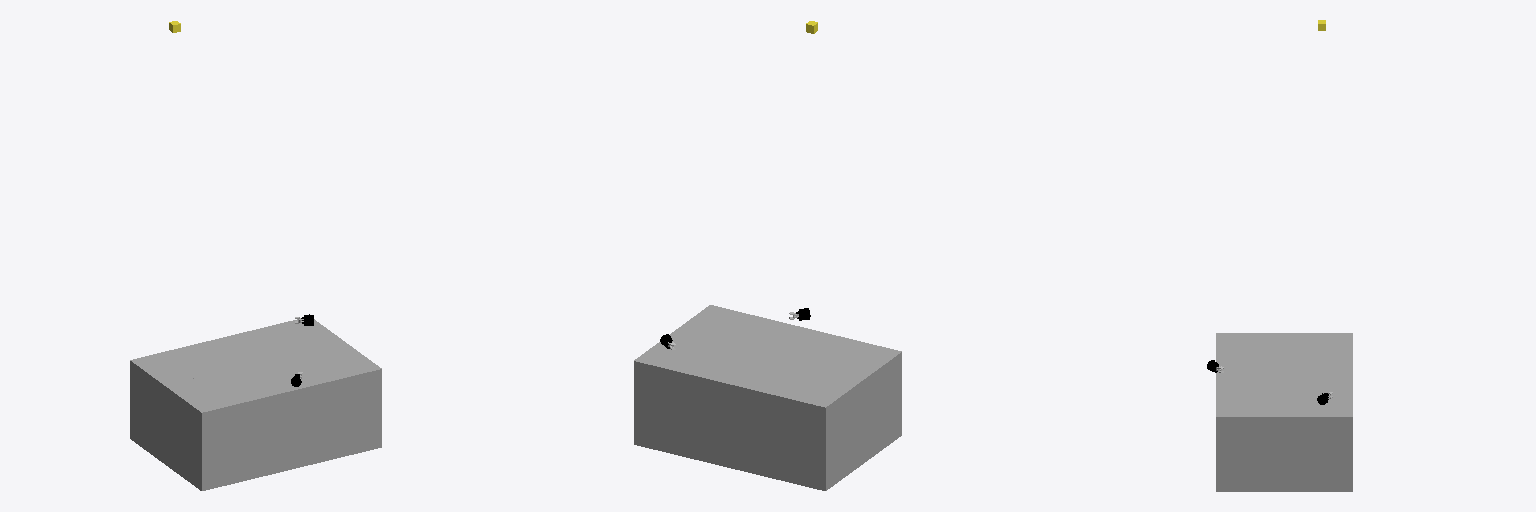
--- Facts derived from the render (not from the file) ---
Views: 3 orthographic renders of the robot side by side, from view 1: azimuth 30°, elevation 25°; view 2: azimuth 150°, elevation 25°; view 3: azimuth 270°, elevation 25°.
Robot: ur3 — 36 links, 35 joints (16 revolute, 19 fixed); root link world; default pose: every joint at zero.
Links seen in each view (by area): view 1: suelo_sistema, zona_recogida; view 2: suelo_sistema, zona_recogida; view 3: suelo_sistema, zona_recogida.
Boxes of the visible links, box(x1,y1,x2,y2) form: suelo_sistema: box(130, 319, 381, 490); zona_recogida: box(130, 342, 238, 385); suelo_sistema: box(634, 305, 901, 490); zona_recogida: box(747, 361, 861, 407); suelo_sistema: box(1216, 333, 1352, 491); zona_recogida: box(1287, 333, 1352, 367).
Bounding box of the posed robot: 1.2 × 0.8887 × 2.67 m (x, y, z).
12 mesh visuals loaded from 12 distinct referenced files (5 Collada DAE); not drawn: 14 (reference not matched to a file when rendering).

The robot description file, URDF, robot "ur3":
<?xml version="1.0" ?>
<!-- =================================================================================== -->
<!-- |    This document was autogenerated by xacro from ur3_2_robots.urdf.xacro        | -->
<!-- |    EDITING THIS FILE BY HAND IS NOT RECOMMENDED                                 | -->
<!-- =================================================================================== -->
<robot name="ur3">
  <gazebo>
    <plugin filename="libgazebo_ros_control.so" name="ros_control">
      <!--robotNamespace>/</robotNamespace-->
      <!--robotSimType>gazebo_ros_control/DefaultRobotHWSim</robotSimType-->
    </plugin>
    <!--
    <plugin name="gazebo_ros_power_monitor_controller" filename="libgazebo_ros_power_monitor.so">
      <alwaysOn>true</alwaysOn>
      <updateRate>1.0</updateRate>
      <timeout>5</timeout>
      <powerStateTopic>power_state</powerStateTopic>
      <powerStateRate>10.0</powerStateRate>
      <fullChargeCapacity>87.78</fullChargeCapacity>     
      <dischargeRate>-474</dischargeRate>
      <chargeRate>525</chargeRate>
      <dischargeVoltage>15.52</dischargeVoltage>
      <chargeVoltage>16.41</chargeVoltage>
    </plugin>
-->
  </gazebo>
  <!--
  Author: Felix Messmer
-->
  <!--
  Author: Ignacio Fidalgo
-->
  <!-- camera -->
  <gazebo reference="camera_link">
    <sensor name="camera1" type="camera">
      <update_rate>30.0</update_rate>
      <camera name="head">
        <!-- <horizontal_fov>0.5</horizontal_fov> -->
        <horizontal_fov>0.8</horizontal_fov>
        <image>
          <width>1280</width>
          <height>800</height>
          <format>R8G8B8</format>
        </image>
        <clip>
          <near>0.02</near>
          <far>300</far>
        </clip>
        <!-- <noise>
                <type>gaussian</type> -->
        <!-- Noise is sampled independently per pixel on each frame.
                    That pixel's noise value is added to each of its color
                    channels, which at that point lie in the range [0,1]. -->
        <!-- <mean>0.0</mean>
                <stddev>0.007</stddev>
            </noise> -->
      </camera>
      <plugin filename="libgazebo_ros_camera.so" name="camera_controller">
        <alwaysOn>true</alwaysOn>
        <updateRate>0.0</updateRate>
        <cameraName>camera1</cameraName>
        <imageTopicName>image_raw</imageTopicName>
        <cameraInfoTopicName>camera_info</cameraInfoTopicName>
        <frameName>camera_link</frameName>
        <hackBaseline>0.07</hackBaseline>
        <distortionK1>0.0</distortionK1>
        <distortionK2>0.0</distortionK2>
        <distortionK3>0.0</distortionK3>
        <distortionT1>0.0</distortionT1>
        <distortionT2>0.0</distortionT2>
      </plugin>
    </sensor>
  </gazebo>
  <!-- measured from model -->
  <link name="robot_1_base_link">
    <visual>
      <origin rpy="0 0 3.141592653589793" xyz="0 0 0"/>
      <geometry>
        <mesh filename="package://ur_description/meshes/ur3/visual/base.dae"/>
      </geometry>
      <material name="LightGrey">
        <color rgba="0.7 0.7 0.7 1.0"/>
      </material>
    </visual>
    <collision>
      <origin rpy="0 0 3.141592653589793" xyz="0 0 0"/>
      <geometry>
        <mesh filename="package://ur_description/meshes/ur3/collision/base.stl"/>
      </geometry>
    </collision>
    <inertial>
      <mass value="2.0"/>
      <origin rpy="0 0 0" xyz="0.0 0.0 0.0"/>
      <inertia ixx="0.0030531654454" ixy="0.0" ixz="0.0" iyy="0.0030531654454" iyz="0.0" izz="0.005625"/>
    </inertial>
  </link>
  <joint name="robot_1_shoulder_pan_joint" type="revolute">
    <parent link="robot_1_base_link"/>
    <child link="robot_1_shoulder_link"/>
    <origin rpy="0 0 3.141592653589793" xyz="0 0 0.1519"/>
    <axis xyz="0 0 1"/>
    <limit effort="330.0" lower="-3.141592653589793" upper="3.141592653589793" velocity="2.16"/>
    <dynamics damping="0.0" friction="0.0"/>
  </joint>
  <link name="robot_1_shoulder_link">
    <visual>
      <origin rpy="0 0 3.141592653589793" xyz="0 0 0"/>
      <geometry>
        <mesh filename="package://ur_description/meshes/ur3/visual/shoulder.dae"/>
      </geometry>
      <material name="LightGrey">
        <color rgba="0.7 0.7 0.7 1.0"/>
      </material>
    </visual>
    <collision>
      <origin rpy="0 0 3.141592653589793" xyz="0 0 0"/>
      <geometry>
        <mesh filename="package://ur_description/meshes/ur3/collision/shoulder.stl"/>
      </geometry>
    </collision>
    <inertial>
      <mass value="2.0"/>
      <origin rpy="0 0 0" xyz="0.0 0.0 0.0"/>
      <inertia ixx="0.008093163429399999" ixy="0.0" ixz="0.0" iyy="0.008093163429399999" iyz="0.0" izz="0.005625"/>
    </inertial>
  </link>
  <joint name="robot_1_shoulder_lift_joint" type="revolute">
    <parent link="robot_1_shoulder_link"/>
    <child link="robot_1_upper_arm_link"/>
    <origin rpy="1.570796327 0 0" xyz="0 0 0"/>
    <axis xyz="0 0 1"/>
    <limit effort="330.0" lower="-3.141592653589793" upper="3.141592653589793" velocity="2.16"/>
    <dynamics damping="0.0" friction="0.0"/>
  </joint>
  <link name="robot_1_upper_arm_link">
    <visual>
      <origin rpy="1.5707963267948966 0 -1.5707963267948966" xyz="0 0 0.1198"/>
      <geometry>
        <mesh filename="package://ur_description/meshes/ur3/visual/upperarm.dae"/>
      </geometry>
      <material name="LightGrey">
        <color rgba="0.7 0.7 0.7 1.0"/>
      </material>
    </visual>
    <collision>
      <origin rpy="1.5707963267948966 0 -1.5707963267948966" xyz="0 0 0.1198"/>
      <geometry>
        <mesh filename="package://ur_description/meshes/ur3/collision/upperarm.stl"/>
      </geometry>
    </collision>
    <inertial>
      <mass value="3.42"/>
      <origin rpy="0 1.5707963267948966 0" xyz="-0.121825 0.0 0.12"/>
      <inertia ixx="0.021728483221103233" ixy="0.0" ixz="0.0" iyy="0.021728483221103233" iyz="0.0" izz="0.00961875"/>
    </inertial>
  </link>
  <joint name="robot_1_elbow_joint" type="revolute">
    <parent link="robot_1_upper_arm_link"/>
    <child link="robot_1_forearm_link"/>
    <origin rpy="0 0 0" xyz="-0.24365 0 0"/>
    <axis xyz="0 0 1"/>
    <limit effort="150.0" lower="-3.141592653589793" upper="3.141592653589793" velocity="3.15"/>
    <dynamics damping="0.0" friction="0.0"/>
  </joint>
  <link name="robot_1_forearm_link">
    <visual>
      <origin rpy="1.5707963267948966 0 -1.5707963267948966" xyz="0 0 0.0275"/>
      <geometry>
        <mesh filename="package://ur_description/meshes/ur3/visual/forearm.dae"/>
      </geometry>
      <material name="LightGrey">
        <color rgba="0.7 0.7 0.7 1.0"/>
      </material>
    </visual>
    <collision>
      <origin rpy="1.5707963267948966 0 -1.5707963267948966" xyz="0 0 0.0275"/>
      <geometry>
        <mesh filename="package://ur_description/meshes/ur3/collision/forearm.stl"/>
      </geometry>
    </collision>
    <inertial>
      <mass value="1.26"/>
      <origin rpy="0 1.5707963267948966 0" xyz="-0.121825 0.0 0.0275"/>
      <inertia ixx="0.006546806443776375" ixy="0.0" ixz="0.0" iyy="0.006546806443776375" iyz="0.0" izz="0.00354375"/>
    </inertial>
  </link>
  <joint name="robot_1_wrist_1_joint" type="revolute">
    <parent link="robot_1_forearm_link"/>
    <child link="robot_1_wrist_1_link"/>
    <origin rpy="0 0 0" xyz="-0.21325 0 0.11235"/>
    <axis xyz="0 0 1"/>
    <limit effort="54.0" lower="-3.141592653589793" upper="3.141592653589793" velocity="3.2"/>
    <dynamics damping="0.0" friction="0.0"/>
  </joint>
  <link name="robot_1_wrist_1_link">
    <visual>
      <origin rpy="1.5707963267948966 0 0" xyz="0 0 -0.085"/>
      <geometry>
        <mesh filename="package://ur_description/meshes/ur3/visual/wrist1.dae"/>
      </geometry>
      <material name="LightGrey">
        <color rgba="0.7 0.7 0.7 1.0"/>
      </material>
    </visual>
    <collision>
      <origin rpy="1.5707963267948966 0 0" xyz="0 0 -0.085"/>
      <geometry>
        <mesh filename="package://ur_description/meshes/ur3/collision/wrist1.stl"/>
      </geometry>
    </collision>
    <inertial>
      <mass value="0.8"/>
      <origin rpy="0 0 0" xyz="0.0 0.0 0.0"/>
      <inertia ixx="0.0016106408557434" ixy="0.0" ixz="0.0" iyy="0.0016106408557434" iyz="0.0" izz="0.00225"/>
    </inertial>
  </link>
  <joint name="robot_1_wrist_2_joint" type="revolute">
    <parent link="robot_1_wrist_1_link"/>
    <child link="robot_1_wrist_2_link"/>
    <origin rpy="1.570796327 0 0" xyz="0 -0.08535 -1.750557762378351e-11"/>
    <axis xyz="0 0 1"/>
    <limit effort="54.0" lower="-3.141592653589793" upper="3.141592653589793" velocity="3.2"/>
    <dynamics damping="0.0" friction="0.0"/>
  </joint>
  <link name="robot_1_wrist_2_link">
    <visual>
      <origin rpy="0 0 0" xyz="0 0 -0.085"/>
      <geometry>
        <mesh filename="package://ur_description/meshes/ur3/visual/wrist2.dae"/>
      </geometry>
      <material name="LightGrey">
        <color rgba="0.7 0.7 0.7 1.0"/>
      </material>
    </visual>
    <collision>
      <origin rpy="0 0 0" xyz="0 0 -0.085"/>
      <geometry>
        <mesh filename="package://ur_description/meshes/ur3/collision/wrist2.stl"/>
      </geometry>
    </collision>
    <inertial>
      <mass value="0.8"/>
      <origin rpy="0 0 0" xyz="0.0 0.0 0.0"/>
      <inertia ixx="0.0015721733711303997" ixy="0.0" ixz="0.0" iyy="0.0015721733711303997" iyz="0.0" izz="0.00225"/>
    </inertial>
  </link>
  <joint name="robot_1_wrist_3_joint" type="revolute">
    <parent link="robot_1_wrist_2_link"/>
    <child link="robot_1_wrist_3_link"/>
    <origin rpy="1.570796326589793 3.141592653589793 3.141592653589793" xyz="0 0.0819 -1.679797079540562e-11"/>
    <axis xyz="0 0 1"/>
    <limit effort="54.0" lower="-3.141592653589793" upper="3.141592653589793" velocity="3.2"/>
    <dynamics damping="0.0" friction="0.0"/>
  </joint>
  <link name="robot_1_wrist_3_link">
    <visual>
      <origin rpy="1.5707963267948966 0 0" xyz="0 0 -0.082"/>
      <geometry>
        <mesh filename="package://ur_description/meshes/ur3/visual/wrist3.dae"/>
      </geometry>
      <material name="LightGrey">
        <color rgba="0.7 0.7 0.7 1.0"/>
      </material>
    </visual>
    <collision>
      <origin rpy="1.5707963267948966 0 0" xyz="0 0 -0.082"/>
      <geometry>
        <mesh filename="package://ur_description/meshes/ur3/collision/wrist3.stl"/>
      </geometry>
    </collision>
    <inertial>
      <mass value="0.35"/>
      <origin rpy="0 0 0" xyz="0.0 0.0 -0.01525"/>
      <inertia ixx="0.00020431970993874997" ixy="0.0" ixz="0.0" iyy="0.00020431970993874997" iyz="0.0" izz="0.000354375"/>
    </inertial>
  </link>
  <joint name="robot_1_ee_fixed_joint" type="fixed">
    <parent link="robot_1_wrist_3_link"/>
    <child link="robot_1_ee_link"/>
    <origin rpy="0.0 -1.5707963267948966 1.5707963267948966" xyz="0.0 0.0 0.0"/>
  </joint>
  <link name="robot_1_ee_link">
    <collision>
      <geometry>
        <box size="0.01 0.01 0.01"/>
      </geometry>
      <origin rpy="0 0 0" xyz="-0.01 0 0"/>
    </collision>
  </link>
  <joint name="robot_1_wrist_3_passive_joint" type="fixed">
    <origin rpy="0 0 0" xyz="0 0 0"/>
    <parent link="robot_1_wrist_3_link"/>
    <child link="robot_1_tool0"/>
  </joint>
  <transmission name="robot_1_shoulder_pan_trans">
    <type>transmission_interface/SimpleTransmission</type>
    <joint name="robot_1_shoulder_pan_joint">
      <hardwareInterface>hardware_interface/PositionJointInterface</hardwareInterface>
    </joint>
    <actuator name="robot_1_shoulder_pan_motor">
      <mechanicalReduction>1</mechanicalReduction>
    </actuator>
  </transmission>
  <transmission name="robot_1_shoulder_lift_trans">
    <type>transmission_interface/SimpleTransmission</type>
    <joint name="robot_1_shoulder_lift_joint">
      <hardwareInterface>hardware_interface/PositionJointInterface</hardwareInterface>
    </joint>
    <actuator name="robot_1_shoulder_lift_motor">
      <mechanicalReduction>1</mechanicalReduction>
    </actuator>
  </transmission>
  <transmission name="robot_1_elbow_trans">
    <type>transmission_interface/SimpleTransmission</type>
    <joint name="robot_1_elbow_joint">
      <hardwareInterface>hardware_interface/PositionJointInterface</hardwareInterface>
    </joint>
    <actuator name="robot_1_elbow_motor">
      <mechanicalReduction>1</mechanicalReduction>
    </actuator>
  </transmission>
  <transmission name="robot_1_wrist_1_trans">
    <type>transmission_interface/SimpleTransmission</type>
    <joint name="robot_1_wrist_1_joint">
      <hardwareInterface>hardware_interface/PositionJointInterface</hardwareInterface>
    </joint>
    <actuator name="robot_1_wrist_1_motor">
      <mechanicalReduction>1</mechanicalReduction>
    </actuator>
  </transmission>
  <transmission name="robot_1_wrist_2_trans">
    <type>transmission_interface/SimpleTransmission</type>
    <joint name="robot_1_wrist_2_joint">
      <hardwareInterface>hardware_interface/PositionJointInterface</hardwareInterface>
    </joint>
    <actuator name="robot_1_wrist_2_motor">
      <mechanicalReduction>1</mechanicalReduction>
    </actuator>
  </transmission>
  <transmission name="robot_1_wrist_3_trans">
    <type>transmission_interface/SimpleTransmission</type>
    <joint name="robot_1_wrist_3_joint">
      <hardwareInterface>hardware_interface/PositionJointInterface</hardwareInterface>
    </joint>
    <actuator name="robot_1_wrist_3_motor">
      <mechanicalReduction>1</mechanicalReduction>
    </actuator>
  </transmission>
  <gazebo reference="robot_1_shoulder_link">
    <selfCollide>true</selfCollide>
  </gazebo>
  <gazebo reference="robot_1_upper_arm_link">
    <selfCollide>true</selfCollide>
  </gazebo>
  <gazebo reference="robot_1_forearm_link">
    <selfCollide>true</selfCollide>
  </gazebo>
  <gazebo reference="robot_1_wrist_1_link">
    <selfCollide>true</selfCollide>
  </gazebo>
  <gazebo reference="robot_1_wrist_3_link">
    <selfCollide>true</selfCollide>
  </gazebo>
  <gazebo reference="robot_1_wrist_2_link">
    <selfCollide>true</selfCollide>
  </gazebo>
  <gazebo reference="robot_1_ee_link">
    <selfCollide>true</selfCollide>
  </gazebo>
  <!-- ROS base_link to UR 'Base' Coordinates transform -->
  <link name="robot_1_base"/>
  <joint name="robot_1_base_link-base_fixed_joint" type="fixed">
    <!-- NOTE: this rotation is only needed as long as base_link itself is
                 not corrected wrt the real robot (ie: rotated over 180
                 degrees)
      -->
    <origin rpy="0 0 -3.141592653589793" xyz="0 0 0"/>
    <parent link="robot_1_base_link"/>
    <child link="robot_1_base"/>
  </joint>
  <!-- Frame coincident with all-zeros TCP on UR controller -->
  <link name="robot_1_tool0"/>
  <gazebo reference="robot_1_left_gripper">
    <selfCollide>true</selfCollide>
  </gazebo>
  <gazebo reference="robot_1_rigth_gripper">
    <selfCollide>true</selfCollide>
  </gazebo>
  <transmission name="robot_1_rigth_gripper_trans">
    <type>transmission_interface/SimpleTransmission</type>
    <joint name="robot_1_rigth_gripper_joint">
      <hardwareInterface>hardware_interface/PositionJointInterface</hardwareInterface>
    </joint>
    <actuator name="robot_1_rigth_gripper_motor">
      <mechanicalReduction>1</mechanicalReduction>
    </actuator>
  </transmission>
  <transmission name="robot_1_left_gripper_trans">
    <type>transmission_interface/SimpleTransmission</type>
    <joint name="robot_1_left_gripper_joint">
      <hardwareInterface>hardware_interface/PositionJointInterface</hardwareInterface>
    </joint>
    <actuator name="robot_1_left_gripper_motor">
      <mechanicalReduction>1</mechanicalReduction>
    </actuator>
  </transmission>
  <joint name="robot_1_base_joint" type="fixed">
    <axis xyz="0 0 1"/>
    <parent link="robot_1_tool0"/>
    <child link="robot_1_conector"/>
    <origin rpy="1.57 0 0" xyz="-0.001 0.002 0.061"/>
  </joint>
  <link name="robot_1_conector">
    <visual>
      <geometry>
        <mesh filename="package://laboratorio_robotica/mallas/Pinza/visual/conector.dae"/>
      </geometry>
      <material name="black">
        <color rgba="0.0 0.0 0.0 1.0"/>
      </material>
      <origin rpy="0 1.57 0" xyz="-0.247 -0.063 0.196"/>
    </visual>
    <collision>
      <origin rpy="0 1.57 0" xyz="-0.247 -0.063 0.196"/>
      <geometry>
        <mesh filename="package://laboratorio_robotica/mallas/Pinza/visual/conector.dae"/>
      </geometry>
    </collision>
    <inertial>
      <mass value="0.1"/>
      <inertia ixx="0.4" ixy="0.0" ixz="0.0" iyy="0.4" iyz="0.0" izz="0.2"/>
    </inertial>
  </link>
  <joint name="robot_1_conector_joint" type="fixed">
    <parent link="robot_1_conector"/>
    <child link="robot_1_body"/>
    <origin rpy="0 0 0" xyz="0 0 0"/>
  </joint>
  <link name="robot_1_body">
    <visual>
      <geometry>
        <mesh filename="package://laboratorio_robotica/mallas/Pinza/visual/body.dae"/>
      </geometry>
      <material name="black">
        <color rgba="0.0 0.0 0.0 1.0"/>
      </material>
    </visual>
    <collision>
      <origin rpy="0 0 0" xyz="0 0 0"/>
      <geometry>
        <mesh filename="package://laboratorio_robotica/mallas/Pinza/visual/body.dae"/>
      </geometry>
    </collision>
    <inertial>
      <mass value="0.1"/>
      <inertia ixx="0.4" ixy="0.0" ixz="0.0" iyy="0.4" iyz="0.0" izz="0.2"/>
    </inertial>
  </link>
  <link name="robot_1_left_gripper">
    <visual>
      <geometry>
        <mesh filename="package://laboratorio_robotica/mallas/Pinza/visual/left_gripper.dae"/>
      </geometry>
      <material name="silver">
        <color rgba="0.75 0.75 0.75 1"/>
      </material>
      <origin rpy="0 0 0" xyz="0 0.004 -0.007"/>
    </visual>
    <collision>
      <origin rpy="0 0 0" xyz="0 0.004 -0.007"/>
      <geometry>
        <mesh filename="package://laboratorio_robotica/mallas/Pinza/visual/left_gripper.dae"/>
      </geometry>
    </collision>
    <inertial>
      <mass value="0.1"/>
      <inertia ixx="0.4" ixy="0.0" ixz="0.0" iyy="0.4" iyz="0.0" izz="0.2"/>
    </inertial>
  </link>
  <joint name="robot_1_left_gripper_joint" type="revolute">
    <axis xyz="1 0 0"/>
    <parent link="robot_1_body"/>
    <child link="robot_1_left_gripper"/>
    <limit effort="1000.0" lower="0" upper="0.5" velocity="0.5"/>
    <origin rpy="0 0 0" xyz="0 -0.004 0.007"/>
  </joint>
  <link name="robot_1_left_gripper_extension">
    <visual>
      <geometry>
        <mesh filename="package://laboratorio_robotica/mallas/Pinza/visual/pinza_disenada.dae"/>
      </geometry>
      <material name="silver">
        <color rgba="0.75 0.75 0.75 1"/>
      </material>
    </visual>
    <collision>
      <origin rpy="0 0 0" xyz="0 0 0"/>
      <geometry>
        <mesh filename="package://laboratorio_robotica/mallas/Pinza/visual/pinza_disenada.dae"/>
      </geometry>
    </collision>
    <inertial>
      <mass value="0.1"/>
      <inertia ixx="0.4" ixy="0.0" ixz="0.0" iyy="0.4" iyz="0.0" izz="0.2"/>
    </inertial>
  </link>
  <joint name="robot_1_left_gripper_extension_joint" type="fixed">
    <parent link="robot_1_left_gripper"/>
    <child link="robot_1_left_gripper_extension"/>
    <origin rpy="0 0 0" xyz="-0.011 0.023 -0.006"/>
  </joint>
  <link name="robot_1_rigth_gripper">
    <visual>
      <geometry>
        <mesh filename="package://laboratorio_robotica/mallas/Pinza/visual/rigth_gripper.dae"/>
      </geometry>
      <material name="silver">
        <color rgba="0.75 0.75 0.75 1"/>
      </material>
      <origin rpy="0 0 0" xyz="0 0.004 0.007"/>
    </visual>
    <collision>
      <origin rpy="0 0 0" xyz="0 0.004 0.007"/>
      <geometry>
        <mesh filename="package://laboratorio_robotica/mallas/Pinza/visual/rigth_gripper.dae"/>
      </geometry>
    </collision>
    <inertial>
      <mass value="0.1"/>
      <inertia ixx="0.4" ixy="0.0" ixz="0.0" iyy="0.4" iyz="0.0" izz="0.2"/>
    </inertial>
  </link>
  <joint name="robot_1_rigth_gripper_joint" type="revolute">
    <axis xyz="1 0 0"/>
    <parent link="robot_1_body"/>
    <child link="robot_1_rigth_gripper"/>
    <limit effort="1000.0" lower="-0.5" upper="0" velocity="0.5"/>
    <origin rpy="0 0 0" xyz="0 -0.004 -0.007"/>
  </joint>
  <link name="robot_1_rigth_gripper_extension">
    <visual>
      <geometry>
        <mesh filename="package://laboratorio_robotica/mallas/Pinza/visual/pinza_disenada.dae"/>
      </geometry>
    </visual>
    <collision>
      <geometry>
        <mesh filename="package://laboratorio_robotica/mallas/Pinza/visual/pinza_disenada.dae"/>
      </geometry>
    </collision>
    <inertial>
      <mass value="0.1"/>
      <inertia ixx="0.4" ixy="0.0" ixz="0.0" iyy="0.4" iyz="0.0" izz="0.2"/>
    </inertial>
  </link>
  <joint name="robot_1_rigth_gripper_extension_joint" type="fixed">
    <parent link="robot_1_rigth_gripper"/>
    <child link="robot_1_rigth_gripper_extension"/>
    <origin rpy="3.14 0 3.14" xyz="0.011 0.023 0.006"/>
  </joint>
  <!-- measured from model -->
  <link name="robot_2_base_link">
    <visual>
      <origin rpy="0 0 3.141592653589793" xyz="0 0 0"/>
      <geometry>
        <mesh filename="package://ur_description/meshes/ur3/visual/base.dae"/>
      </geometry>
      <material name="LightGrey">
        <color rgba="0.7 0.7 0.7 1.0"/>
      </material>
    </visual>
    <collision>
      <origin rpy="0 0 3.141592653589793" xyz="0 0 0"/>
      <geometry>
        <mesh filename="package://ur_description/meshes/ur3/collision/base.stl"/>
      </geometry>
    </collision>
    <inertial>
      <mass value="2.0"/>
      <origin rpy="0 0 0" xyz="0.0 0.0 0.0"/>
      <inertia ixx="0.0030531654454" ixy="0.0" ixz="0.0" iyy="0.0030531654454" iyz="0.0" izz="0.005625"/>
    </inertial>
  </link>
  <joint name="robot_2_shoulder_pan_joint" type="revolute">
    <parent link="robot_2_base_link"/>
    <child link="robot_2_shoulder_link"/>
    <origin rpy="0 0 3.141592653589793" xyz="0 0 0.1519"/>
    <axis xyz="0 0 1"/>
    <limit effort="330.0" lower="-3.141592653589793" upper="3.141592653589793" velocity="2.16"/>
    <dynamics damping="0.0" friction="0.0"/>
  </joint>
  <link name="robot_2_shoulder_link">
    <visual>
      <origin rpy="0 0 3.141592653589793" xyz="0 0 0"/>
      <geometry>
        <mesh filename="package://ur_description/meshes/ur3/visual/shoulder.dae"/>
      </geometry>
      <material name="LightGrey">
        <color rgba="0.7 0.7 0.7 1.0"/>
      </material>
    </visual>
    <collision>
      <origin rpy="0 0 3.141592653589793" xyz="0 0 0"/>
      <geometry>
        <mesh filename="package://ur_description/meshes/ur3/collision/shoulder.stl"/>
      </geometry>
    </collision>
    <inertial>
      <mass value="2.0"/>
      <origin rpy="0 0 0" xyz="0.0 0.0 0.0"/>
      <inertia ixx="0.008093163429399999" ixy="0.0" ixz="0.0" iyy="0.008093163429399999" iyz="0.0" izz="0.005625"/>
    </inertial>
  </link>
  <joint name="robot_2_shoulder_lift_joint" type="revolute">
    <parent link="robot_2_shoulder_link"/>
    <child link="robot_2_upper_arm_link"/>
    <origin rpy="1.570796327 0 0" xyz="0 0 0"/>
    <axis xyz="0 0 1"/>
    <limit effort="330.0" lower="-3.141592653589793" upper="3.141592653589793" velocity="2.16"/>
    <dynamics damping="0.0" friction="0.0"/>
  </joint>
  <link name="robot_2_upper_arm_link">
    <visual>
      <origin rpy="1.5707963267948966 0 -1.5707963267948966" xyz="0 0 0.1198"/>
      <geometry>
        <mesh filename="package://ur_description/meshes/ur3/visual/upperarm.dae"/>
      </geometry>
      <material name="LightGrey">
        <color rgba="0.7 0.7 0.7 1.0"/>
      </material>
    </visual>
    <collision>
      <origin rpy="1.5707963267948966 0 -1.5707963267948966" xyz="0 0 0.1198"/>
      <geometry>
        <mesh filename="package://ur_description/meshes/ur3/collision/upperarm.stl"/>
      </geometry>
    </collision>
    <inertial>
      <mass value="3.42"/>
      <origin rpy="0 1.5707963267948966 0" xyz="-0.121825 0.0 0.12"/>
      <inertia ixx="0.021728483221103233" ixy="0.0" ixz="0.0" iyy="0.021728483221103233" iyz="0.0" izz="0.00961875"/>
    </inertial>
  </link>
  <joint name="robot_2_elbow_joint" type="revolute">
    <parent link="robot_2_upper_arm_link"/>
    <child link="robot_2_forearm_link"/>
    <origin rpy="0 0 0" xyz="-0.24365 0 0"/>
    <axis xyz="0 0 1"/>
    <limit effort="150.0" lower="-3.141592653589793" upper="3.141592653589793" velocity="3.15"/>
    <dynamics damping="0.0" friction="0.0"/>
  </joint>
  <link name="robot_2_forearm_link">
    <visual>
      <origin rpy="1.5707963267948966 0 -1.5707963267948966" xyz="0 0 0.0275"/>
      <geometry>
        <mesh filename="package://ur_description/meshes/ur3/visual/forearm.dae"/>
      </geometry>
      <material name="LightGrey">
        <color rgba="0.7 0.7 0.7 1.0"/>
      </material>
    </visual>
    <collision>
      <origin rpy="1.5707963267948966 0 -1.5707963267948966" xyz="0 0 0.0275"/>
      <geometry>
        <mesh filename="package://ur_description/meshes/ur3/collision/forearm.stl"/>
      </geometry>
    </collision>
    <inertial>
      <mass value="1.26"/>
      <origin rpy="0 1.5707963267948966 0" xyz="-0.121825 0.0 0.0275"/>
      <inertia ixx="0.006546806443776375" ixy="0.0" ixz="0.0" iyy="0.006546806443776375" iyz="0.0" izz="0.00354375"/>
    </inertial>
  </link>
  <joint name="robot_2_wrist_1_joint" type="revolute">
    <parent link="robot_2_forearm_link"/>
    <child link="robot_2_wrist_1_link"/>
    <origin rpy="0 0 0" xyz="-0.21325 0 0.11235"/>
    <axis xyz="0 0 1"/>
    <limit effort="54.0" lower="-3.141592653589793" upper="3.141592653589793" velocity="3.2"/>
    <dynamics damping="0.0" friction="0.0"/>
  </joint>
  <link name="robot_2_wrist_1_link">
    <visual>
      <origin rpy="1.5707963267948966 0 0" xyz="0 0 -0.085"/>
      <geometry>
        <mesh filename="package://ur_description/meshes/ur3/visual/wrist1.dae"/>
      </geometry>
      <material name="LightGrey">
        <color rgba="0.7 0.7 0.7 1.0"/>
      </material>
    </visual>
    <collision>
      <origin rpy="1.5707963267948966 0 0" xyz="0 0 -0.085"/>
      <geometry>
        <mesh filename="package://ur_description/meshes/ur3/collision/wrist1.stl"/>
      </geometry>
    </collision>
    <inertial>
      <mass value="0.8"/>
      <origin rpy="0 0 0" xyz="0.0 0.0 0.0"/>
      <inertia ixx="0.0016106408557434" ixy="0.0" ixz="0.0" iyy="0.0016106408557434" iyz="0.0" izz="0.00225"/>
    </inertial>
  </link>
  <joint name="robot_2_wrist_2_joint" type="revolute">
    <parent link="robot_2_wrist_1_link"/>
    <child link="robot_2_wrist_2_link"/>
    <origin rpy="1.570796327 0 0" xyz="0 -0.08535 -1.750557762378351e-11"/>
    <axis xyz="0 0 1"/>
    <limit effort="54.0" lower="-3.141592653589793" upper="3.141592653589793" velocity="3.2"/>
    <dynamics damping="0.0" friction="0.0"/>
  </joint>
  <link name="robot_2_wrist_2_link">
    <visual>
      <origin rpy="0 0 0" xyz="0 0 -0.085"/>
      <geometry>
        <mesh filename="package://ur_description/meshes/ur3/visual/wrist2.dae"/>
      </geometry>
      <material name="LightGrey">
        <color rgba="0.7 0.7 0.7 1.0"/>
      </material>
    </visual>
    <collision>
      <origin rpy="0 0 0" xyz="0 0 -0.085"/>
      <geometry>
        <mesh filename="package://ur_description/meshes/ur3/collision/wrist2.stl"/>
      </geometry>
    </collision>
    <inertial>
      <mass value="0.8"/>
      <origin rpy="0 0 0" xyz="0.0 0.0 0.0"/>
      <inertia ixx="0.0015721733711303997" ixy="0.0" ixz="0.0" iyy="0.0015721733711303997" iyz="0.0" izz="0.00225"/>
    </inertial>
  </link>
  <joint name="robot_2_wrist_3_joint" type="revolute">
    <parent link="robot_2_wrist_2_link"/>
    <child link="robot_2_wrist_3_link"/>
    <origin rpy="1.570796326589793 3.141592653589793 3.141592653589793" xyz="0 0.0819 -1.679797079540562e-11"/>
    <axis xyz="0 0 1"/>
    <limit effort="54.0" lower="-3.141592653589793" upper="3.141592653589793" velocity="3.2"/>
    <dynamics damping="0.0" friction="0.0"/>
  </joint>
  <link name="robot_2_wrist_3_link">
    <visual>
      <origin rpy="1.5707963267948966 0 0" xyz="0 0 -0.082"/>
      <geometry>
        <mesh filename="package://ur_description/meshes/ur3/visual/wrist3.dae"/>
      </geometry>
      <material name="LightGrey">
        <color rgba="0.7 0.7 0.7 1.0"/>
      </material>
    </visual>
    <collision>
      <origin rpy="1.5707963267948966 0 0" xyz="0 0 -0.082"/>
      <geometry>
        <mesh filename="package://ur_description/meshes/ur3/collision/wrist3.stl"/>
      </geometry>
    </collision>
    <inertial>
      <mass value="0.35"/>
      <origin rpy="0 0 0" xyz="0.0 0.0 -0.01525"/>
      <inertia ixx="0.00020431970993874997" ixy="0.0" ixz="0.0" iyy="0.00020431970993874997" iyz="0.0" izz="0.000354375"/>
    </inertial>
  </link>
  <joint name="robot_2_ee_fixed_joint" type="fixed">
    <parent link="robot_2_wrist_3_link"/>
    <child link="robot_2_ee_link"/>
    <origin rpy="0.0 -1.5707963267948966 1.5707963267948966" xyz="0.0 0.0 0.0"/>
  </joint>
  <link name="robot_2_ee_link">
    <collision>
      <geometry>
        <box size="0.01 0.01 0.01"/>
      </geometry>
      <origin rpy="0 0 0" xyz="-0.01 0 0"/>
    </collision>
  </link>
  <joint name="robot_2_wrist_3_passive_joint" type="fixed">
    <origin rpy="0 0 0" xyz="0 0 0"/>
    <parent link="robot_2_wrist_3_link"/>
    <child link="robot_2_tool0"/>
  </joint>
  <transmission name="robot_2_shoulder_pan_trans">
    <type>transmission_interface/SimpleTransmission</type>
    <joint name="robot_2_shoulder_pan_joint">
      <hardwareInterface>hardware_interface/PositionJointInterface</hardwareInterface>
    </joint>
    <actuator name="robot_2_shoulder_pan_motor">
      <mechanicalReduction>1</mechanicalReduction>
    </actuator>
  </transmission>
  <transmission name="robot_2_shoulder_lift_trans">
    <type>transmission_interface/SimpleTransmission</type>
    <joint name="robot_2_shoulder_lift_joint">
      <hardwareInterface>hardware_interface/PositionJointInterface</hardwareInterface>
    </joint>
    <actuator name="robot_2_shoulder_lift_motor">
      <mechanicalReduction>1</mechanicalReduction>
    </actuator>
  </transmission>
  <transmission name="robot_2_elbow_trans">
    <type>transmission_interface/SimpleTransmission</type>
    <joint name="robot_2_elbow_joint">
      <hardwareInterface>hardware_interface/PositionJointInterface</hardwareInterface>
    </joint>
    <actuator name="robot_2_elbow_motor">
      <mechanicalReduction>1</mechanicalReduction>
    </actuator>
  </transmission>
  <transmission name="robot_2_wrist_1_trans">
    <type>transmission_interface/SimpleTransmission</type>
    <joint name="robot_2_wrist_1_joint">
      <hardwareInterface>hardware_interface/PositionJointInterface</hardwareInterface>
    </joint>
    <actuator name="robot_2_wrist_1_motor">
      <mechanicalReduction>1</mechanicalReduction>
    </actuator>
  </transmission>
  <transmission name="robot_2_wrist_2_trans">
    <type>transmission_interface/SimpleTransmission</type>
    <joint name="robot_2_wrist_2_joint">
      <hardwareInterface>hardware_interface/PositionJointInterface</hardwareInterface>
    </joint>
    <actuator name="robot_2_wrist_2_motor">
      <mechanicalReduction>1</mechanicalReduction>
    </actuator>
  </transmission>
  <transmission name="robot_2_wrist_3_trans">
    <type>transmission_interface/SimpleTransmission</type>
    <joint name="robot_2_wrist_3_joint">
      <hardwareInterface>hardware_interface/PositionJointInterface</hardwareInterface>
    </joint>
    <actuator name="robot_2_wrist_3_motor">
      <mechanicalReduction>1</mechanicalReduction>
    </actuator>
  </transmission>
  <gazebo reference="robot_2_shoulder_link">
    <selfCollide>true</selfCollide>
  </gazebo>
  <gazebo reference="robot_2_upper_arm_link">
    <selfCollide>true</selfCollide>
  </gazebo>
  <gazebo reference="robot_2_forearm_link">
    <selfCollide>true</selfCollide>
  </gazebo>
  <gazebo reference="robot_2_wrist_1_link">
    <selfCollide>true</selfCollide>
  </gazebo>
  <gazebo reference="robot_2_wrist_3_link">
    <selfCollide>true</selfCollide>
  </gazebo>
  <gazebo reference="robot_2_wrist_2_link">
    <selfCollide>true</selfCollide>
  </gazebo>
  <gazebo reference="robot_2_ee_link">
    <selfCollide>true</selfCollide>
  </gazebo>
  <!-- ROS base_link to UR 'Base' Coordinates transform -->
  <link name="robot_2_base"/>
  <joint name="robot_2_base_link-base_fixed_joint" type="fixed">
    <!-- NOTE: this rotation is only needed as long as base_link itself is
                 not corrected wrt the real robot (ie: rotated over 180
                 degrees)
      -->
    <origin rpy="0 0 -3.141592653589793" xyz="0 0 0"/>
    <parent link="robot_2_base_link"/>
    <child link="robot_2_base"/>
  </joint>
  <!-- Frame coincident with all-zeros TCP on UR controller -->
  <link name="robot_2_tool0"/>
  <gazebo reference="robot_2_left_gripper">
    <selfCollide>true</selfCollide>
  </gazebo>
  <gazebo reference="robot_2_rigth_gripper">
    <selfCollide>true</selfCollide>
  </gazebo>
  <transmission name="robot_2_rigth_gripper_trans">
    <type>transmission_interface/SimpleTransmission</type>
    <joint name="robot_2_rigth_gripper_joint">
      <hardwareInterface>hardware_interface/PositionJointInterface</hardwareInterface>
    </joint>
    <actuator name="robot_2_rigth_gripper_motor">
      <mechanicalReduction>1</mechanicalReduction>
    </actuator>
  </transmission>
  <transmission name="robot_2_left_gripper_trans">
    <type>transmission_interface/SimpleTransmission</type>
    <joint name="robot_2_left_gripper_joint">
      <hardwareInterface>hardware_interface/PositionJointInterface</hardwareInterface>
    </joint>
    <actuator name="robot_2_left_gripper_motor">
      <mechanicalReduction>1</mechanicalReduction>
    </actuator>
  </transmission>
  <joint name="robot_2_base_joint" type="fixed">
    <axis xyz="0 0 1"/>
    <parent link="robot_2_tool0"/>
    <child link="robot_2_conector"/>
    <origin rpy="1.57 0 0" xyz="-0.001 0.002 0.061"/>
  </joint>
  <link name="robot_2_conector">
    <visual>
      <geometry>
        <mesh filename="package://laboratorio_robotica/mallas/Pinza/visual/conector.dae"/>
      </geometry>
      <material name="black">
        <color rgba="0.0 0.0 0.0 1.0"/>
      </material>
      <origin rpy="0 1.57 0" xyz="-0.247 -0.063 0.196"/>
    </visual>
    <collision>
      <origin rpy="0 1.57 0" xyz="-0.247 -0.063 0.196"/>
      <geometry>
        <mesh filename="package://laboratorio_robotica/mallas/Pinza/visual/conector.dae"/>
      </geometry>
    </collision>
    <inertial>
      <mass value="0.1"/>
      <inertia ixx="0.4" ixy="0.0" ixz="0.0" iyy="0.4" iyz="0.0" izz="0.2"/>
    </inertial>
  </link>
  <joint name="robot_2_conector_joint" type="fixed">
    <parent link="robot_2_conector"/>
    <child link="robot_2_body"/>
    <origin rpy="0 0 0" xyz="0 0 0"/>
  </joint>
  <link name="robot_2_body">
    <visual>
      <geometry>
        <mesh filename="package://laboratorio_robotica/mallas/Pinza/visual/body.dae"/>
      </geometry>
      <material name="black">
        <color rgba="0.0 0.0 0.0 1.0"/>
      </material>
    </visual>
    <collision>
      <origin rpy="0 0 0" xyz="0 0 0"/>
      <geometry>
        <mesh filename="package://laboratorio_robotica/mallas/Pinza/visual/body.dae"/>
      </geometry>
    </collision>
    <inertial>
      <mass value="0.1"/>
      <inertia ixx="0.4" ixy="0.0" ixz="0.0" iyy="0.4" iyz="0.0" izz="0.2"/>
    </inertial>
  </link>
  <link name="robot_2_left_gripper">
    <visual>
      <geometry>
        <mesh filename="package://laboratorio_robotica/mallas/Pinza/visual/left_gripper.dae"/>
      </geometry>
      <material name="silver">
        <color rgba="0.75 0.75 0.75 1"/>
      </material>
      <origin rpy="0 0 0" xyz="0 0.004 -0.007"/>
    </visual>
    <collision>
      <origin rpy="0 0 0" xyz="0 0.004 -0.007"/>
      <geometry>
        <mesh filename="package://laboratorio_robotica/mallas/Pinza/visual/left_gripper.dae"/>
      </geometry>
    </collision>
    <inertial>
      <mass value="0.1"/>
      <inertia ixx="0.4" ixy="0.0" ixz="0.0" iyy="0.4" iyz="0.0" izz="0.2"/>
    </inertial>
  </link>
  <joint name="robot_2_left_gripper_joint" type="revolute">
    <axis xyz="1 0 0"/>
    <parent link="robot_2_body"/>
    <child link="robot_2_left_gripper"/>
    <limit effort="1000.0" lower="0" upper="0.5" velocity="0.5"/>
    <origin rpy="0 0 0" xyz="0 -0.004 0.007"/>
  </joint>
  <link name="robot_2_left_gripper_extension">
    <visual>
      <geometry>
        <mesh filename="package://laboratorio_robotica/mallas/Pinza/visual/pinza_disenada.dae"/>
      </geometry>
      <material name="silver">
        <color rgba="0.75 0.75 0.75 1"/>
      </material>
    </visual>
    <collision>
      <origin rpy="0 0 0" xyz="0 0 0"/>
      <geometry>
        <mesh filename="package://laboratorio_robotica/mallas/Pinza/visual/pinza_disenada.dae"/>
      </geometry>
    </collision>
    <inertial>
      <mass value="0.1"/>
      <inertia ixx="0.4" ixy="0.0" ixz="0.0" iyy="0.4" iyz="0.0" izz="0.2"/>
    </inertial>
  </link>
  <joint name="robot_2_left_gripper_extension_joint" type="fixed">
    <parent link="robot_2_left_gripper"/>
    <child link="robot_2_left_gripper_extension"/>
    <origin rpy="0 0 0" xyz="-0.011 0.023 -0.006"/>
  </joint>
  <link name="robot_2_rigth_gripper">
    <visual>
      <geometry>
        <mesh filename="package://laboratorio_robotica/mallas/Pinza/visual/rigth_gripper.dae"/>
      </geometry>
      <material name="silver">
        <color rgba="0.75 0.75 0.75 1"/>
      </material>
      <origin rpy="0 0 0" xyz="0 0.004 0.007"/>
    </visual>
    <collision>
      <origin rpy="0 0 0" xyz="0 0.004 0.007"/>
      <geometry>
        <mesh filename="package://laboratorio_robotica/mallas/Pinza/visual/rigth_gripper.dae"/>
      </geometry>
    </collision>
    <inertial>
      <mass value="0.1"/>
      <inertia ixx="0.4" ixy="0.0" ixz="0.0" iyy="0.4" iyz="0.0" izz="0.2"/>
    </inertial>
  </link>
  <joint name="robot_2_rigth_gripper_joint" type="revolute">
    <axis xyz="1 0 0"/>
    <parent link="robot_2_body"/>
    <child link="robot_2_rigth_gripper"/>
    <limit effort="1000.0" lower="-0.5" upper="0" velocity="0.5"/>
    <origin rpy="0 0 0" xyz="0 -0.004 -0.007"/>
  </joint>
  <link name="robot_2_rigth_gripper_extension">
    <visual>
      <geometry>
        <mesh filename="package://laboratorio_robotica/mallas/Pinza/visual/pinza_disenada.dae"/>
      </geometry>
    </visual>
    <collision>
      <geometry>
        <mesh filename="package://laboratorio_robotica/mallas/Pinza/visual/pinza_disenada.dae"/>
      </geometry>
    </collision>
    <inertial>
      <mass value="0.1"/>
      <inertia ixx="0.4" ixy="0.0" ixz="0.0" iyy="0.4" iyz="0.0" izz="0.2"/>
    </inertial>
  </link>
  <joint name="robot_2_rigth_gripper_extension_joint" type="fixed">
    <parent link="robot_2_rigth_gripper"/>
    <child link="robot_2_rigth_gripper_extension"/>
    <origin rpy="3.14 0 3.14" xyz="0.011 0.023 0.006"/>
  </joint>
  <!-- Suelo común para los 2 robots(Es necesario para luego juntar el suelo común con el world) -->
  <link name="suelo_sistema">
    <visual>
      <origin rpy="0 0 0" xyz="0.45699999999999996 0.272 0.25"/>
      <geometry>
        <box size="1.2 0.83 0.5"/>
      </geometry>
      <material name="LightGrey">
        <color rgba="0.7 0.7 0.7 1.0"/>
      </material>
    </visual>
    <collision>
      <origin rpy="0 0 0" xyz="0.38 0.3 0.25"/>
      <geometry>
        <box size="1 1 0.5"/>
      </geometry>
    </collision>
    <inertial>
      <mass value="0.1"/>
      <inertia ixx="0.4" ixy="0.0" ixz="0.0" iyy="0.4" iyz="0.0" izz="0.2"/>
    </inertial>
  </link>
  <gazebo reference="suelo_sistema">
    <material>Gazebo/Black</material>
  </gazebo>
  <!-- Juntas al suelo de los 2 robots -->
  <joint name="junta_suelo_sistema_robot_1" type="fixed">
    <parent link="suelo_sistema"/>
    <child link="robot_1_base_link"/>
    <origin rpy="0.0 0.0 -0.769" xyz="0.0 0.0 0.5"/>
  </joint>
  <link name="zona_recogida">
    <visual>
      <origin rpy="0 0 0" xyz="0.10700000000000001 0.4869999999999999 0.5002"/>
      <geometry>
        <box size="0.5 0.4 0.0001"/>
      </geometry>
      <material name="LightGrey">
        <color rgba="0.7 0.7 0.7 1.0"/>
      </material>
    </visual>
    <collision>
      <origin rpy="0 0 0" xyz="0.8069999999999999 0.4869999999999999 0.5002"/>
      <geometry>
        <box size="0.5 0.4 0.0001"/>
      </geometry>
    </collision>
    <inertial>
      <mass value="0.1"/>
      <inertia ixx="0.4" ixy="0.0" ixz="0.0" iyy="0.4" iyz="0.0" izz="0.2"/>
    </inertial>
  </link>
  <gazebo reference="zona_recogida">
    <material>Gazebo/White</material>
  </gazebo>
  <joint name="junta_suelo_sistema_recogida" type="fixed">
    <parent link="suelo_sistema"/>
    <child link="zona_recogida"/>
    <origin rpy="0 0 0" xyz="0 0 0"/>
  </joint>
  <joint name="junta_suelo_sistema_robot_2" type="fixed">
    <parent link="suelo_sistema"/>
    <child link="robot_2_base_link"/>
    <origin rpy="0.0 0.0 0.9562" xyz="0.862 0.01 0.5"/>
  </joint>
  <!-- Junta  con el suelo de gazebo -->
  <link name="world"/>
  <joint name="world_joint" type="fixed">
    <parent link="world"/>
    <child link="suelo_sistema"/>
    <origin rpy="0.0 0.0 0.0" xyz="0.0 0.0 0.0"/>
  </joint>
  <joint name="camera_joint" type="fixed">
    <axis xyz="0 1 0"/>
    <origin rpy="0 1.5707963267948966 0" xyz="0.05 0.5 2.65"/>
    <parent link="suelo_sistema"/>
    <child link="camera_link"/>
  </joint>
  <!-- Camera -->
  <link name="camera_link">
    <collision>
      <origin rpy="0 0 0" xyz="0 0 0"/>
      <geometry>
        <box size="0.05 0.05 0.05"/>
      </geometry>
    </collision>
    <visual>
      <origin rpy="0 0 0" xyz="0 0 0"/>
      <geometry>
        <box size="0.05 0.05 0.05"/>
      </geometry>
      <material name="red"/>
    </visual>
    <inertial>
      <mass value="1e-5"/>
      <origin rpy="0 0 0" xyz="0 0 0"/>
      <inertia ixx="1e-6" ixy="0" ixz="0" iyy="1e-6" iyz="0" izz="1e-6"/>
    </inertial>
  </link>
</robot>
